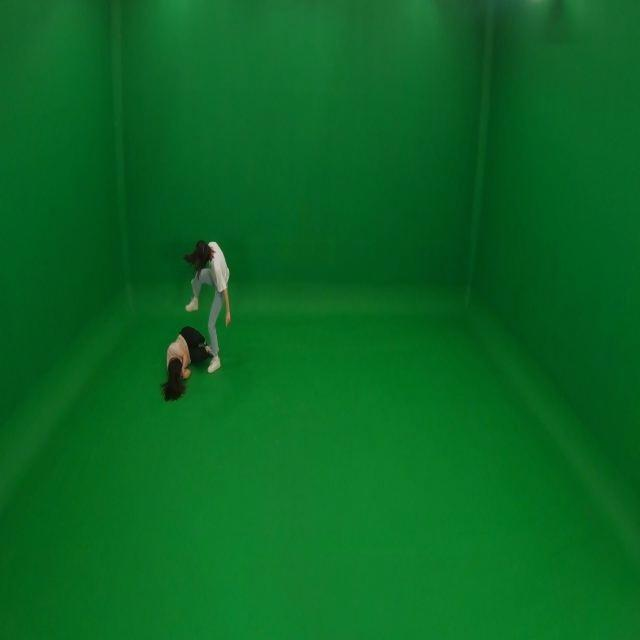fight: (162, 238, 232, 398)
